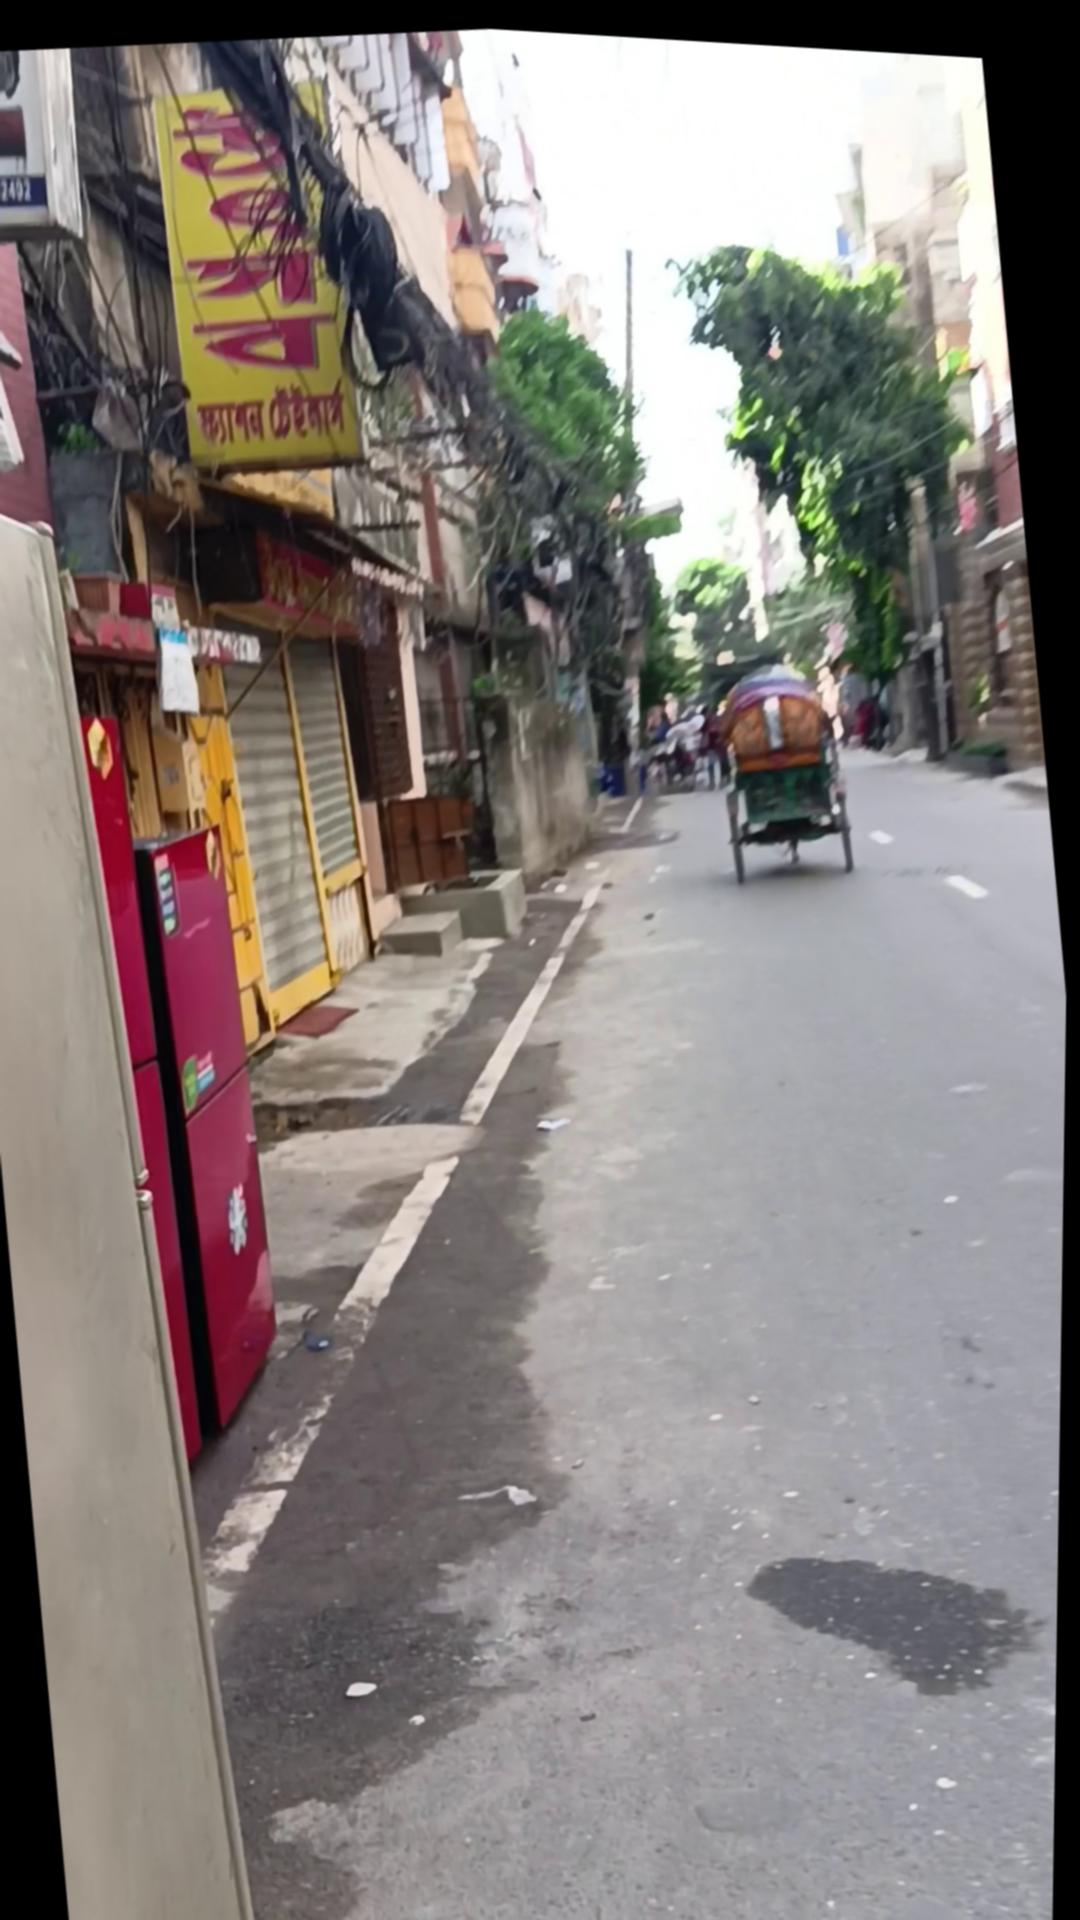Broken-road: (219, 839, 559, 1156)
Crosswalk: (0, 465, 285, 1920), (124, 811, 311, 1474)
Fallen-tree: (41, 411, 142, 620), (956, 719, 1013, 769)
Fence: (711, 663, 861, 881)
Light-pole: (657, 204, 1006, 727), (450, 277, 712, 806)
